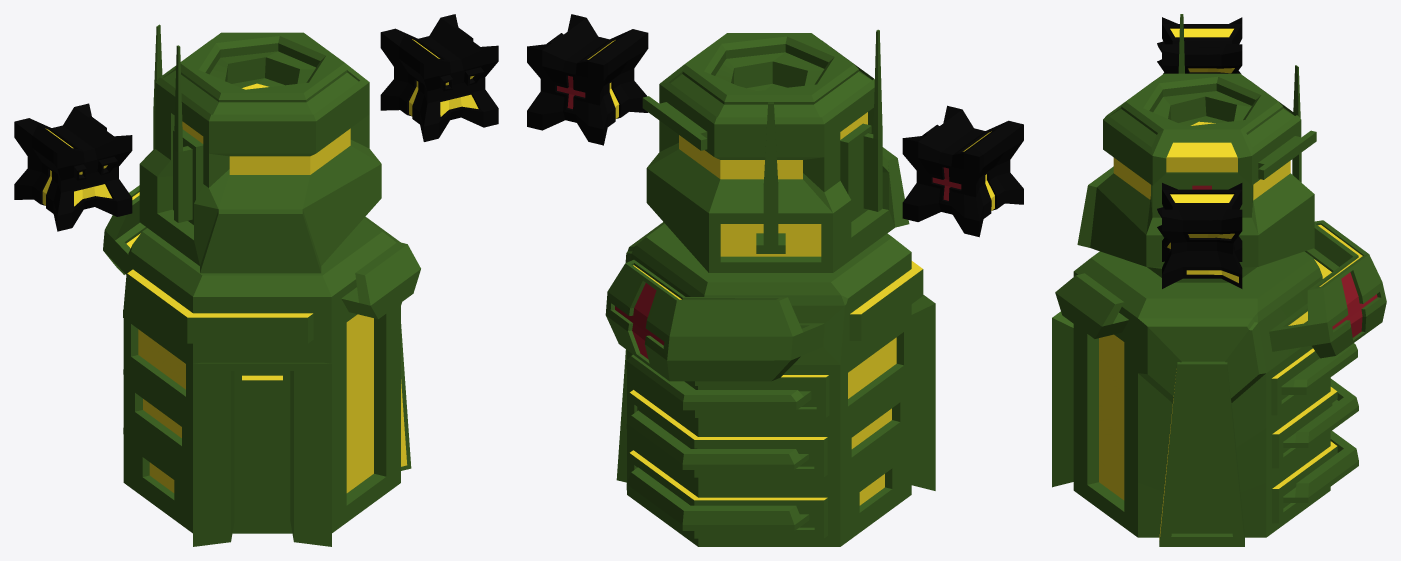
File: SupportTowerSupHealer.fbx
The picture shows the model from 3 angles, left to right: view 1: azimuth 30°, elevation 25°; view 2: azimuth 150°, elevation 25°; view 3: azimuth 270°, elevation 25°; orthographic projection. The views are drawn at different scales.
Visible parts, largest first — view 1: Cylinder, Cylinder.001, Cube, Cube.001; view 2: Cylinder, Cylinder.001, Cube.001, Cube; view 3: Cylinder, Cylinder.001, Cube, Cube.001.
Part boxes in pixels (<box>): Cylinder: <box>103,185,420,546</box>; Cylinder.001: <box>139,24,381,273</box>; Cube: <box>380,14,498,141</box>; Cube.001: <box>14,103,132,231</box>; Cylinder: <box>605,222,935,546</box>; Cylinder.001: <box>642,29,909,272</box>; Cube.001: <box>902,105,1023,237</box>; Cube: <box>527,14,648,145</box>; Cylinder: <box>1052,220,1386,546</box>; Cylinder.001: <box>1077,14,1316,282</box>; Cube: <box>1157,183,1242,288</box>; Cube.001: <box>1157,17,1242,73</box>.
Size of the model in its own units: 368 by 374 by 261.
